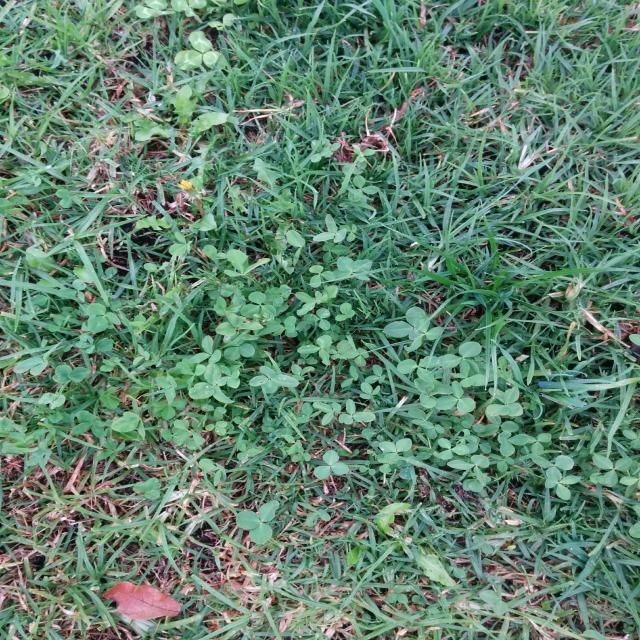Four Leaf Clover: (249, 366, 299, 394), (212, 365, 240, 389)
